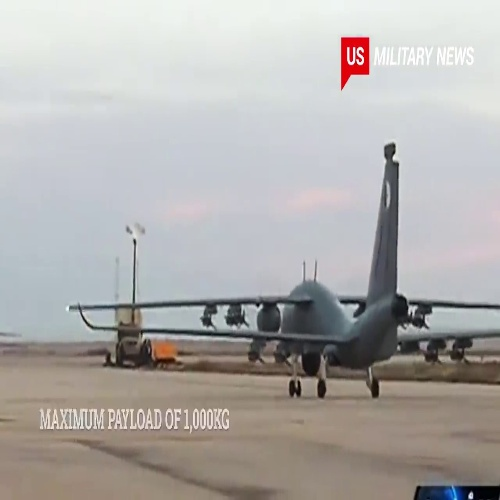uav85: (74, 141, 498, 397)
